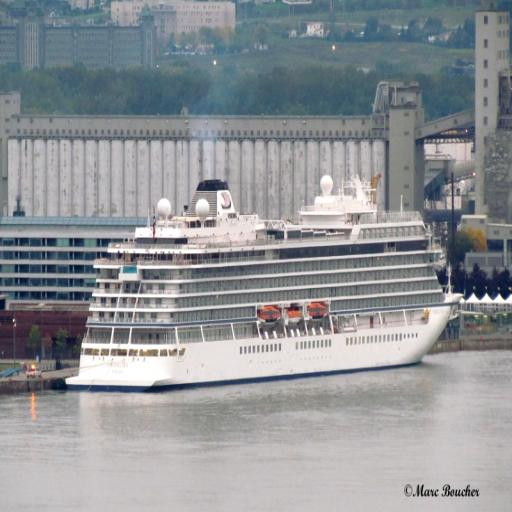cruises: (60, 168, 462, 404)
